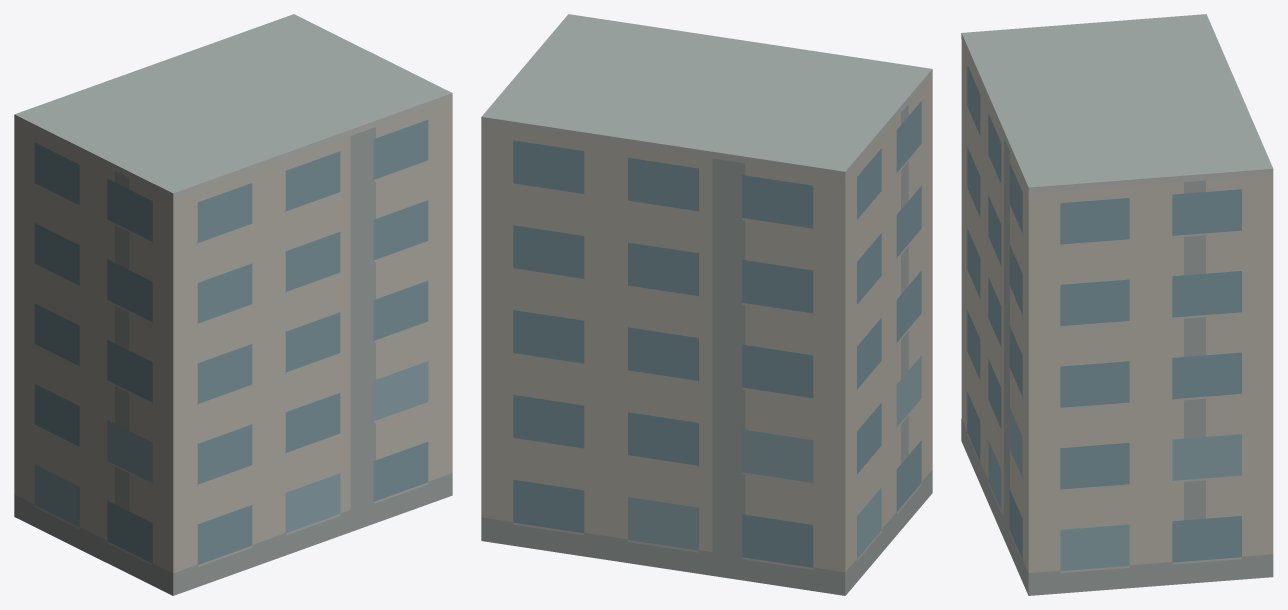
Rendered from residential-3806c423-6c48-4af0-94c0-b92537d38b8e.glb.
3 renders of one model, left to right at view 1: azimuth 30°, elevation 25°; view 2: azimuth 150°, elevation 25°; view 3: azimuth 270°, elevation 25°, orthographic. The views are drawn at different scales.
Parts seen in each view (by area): view 1: residential-3806c423-6c48-4af0-94c0-b92537d38b8e.tmp; view 2: residential-3806c423-6c48-4af0-94c0-b92537d38b8e.tmp; view 3: residential-3806c423-6c48-4af0-94c0-b92537d38b8e.tmp.
Boxes of the visible parts, x1=… form: residential-3806c423-6c48-4af0-94c0-b92537d38b8e.tmp: x1=14, y1=14, x2=452, y2=595; residential-3806c423-6c48-4af0-94c0-b92537d38b8e.tmp: x1=481, y1=14, x2=932, y2=595; residential-3806c423-6c48-4af0-94c0-b92537d38b8e.tmp: x1=961, y1=14, x2=1273, y2=595.
Bounding box in the file's own units: 13.91 × 15.25 × 10.56.
